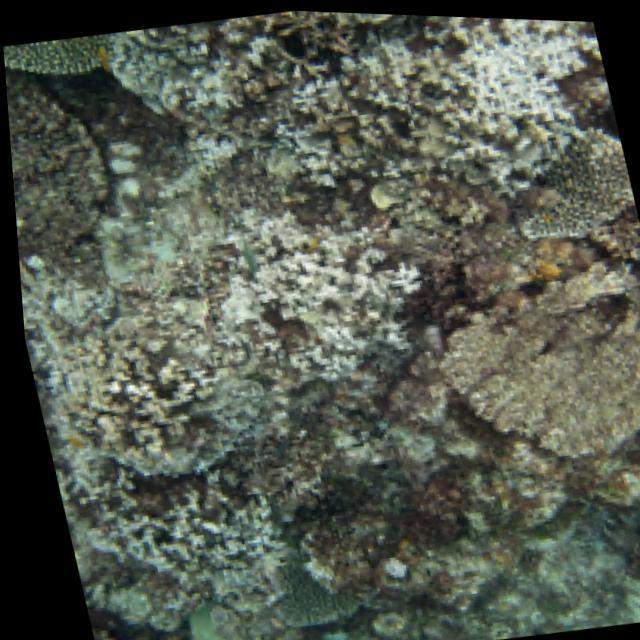Dead Coral: (12, 216, 366, 639), (394, 210, 640, 529), (138, 4, 462, 216), (4, 64, 121, 241)
